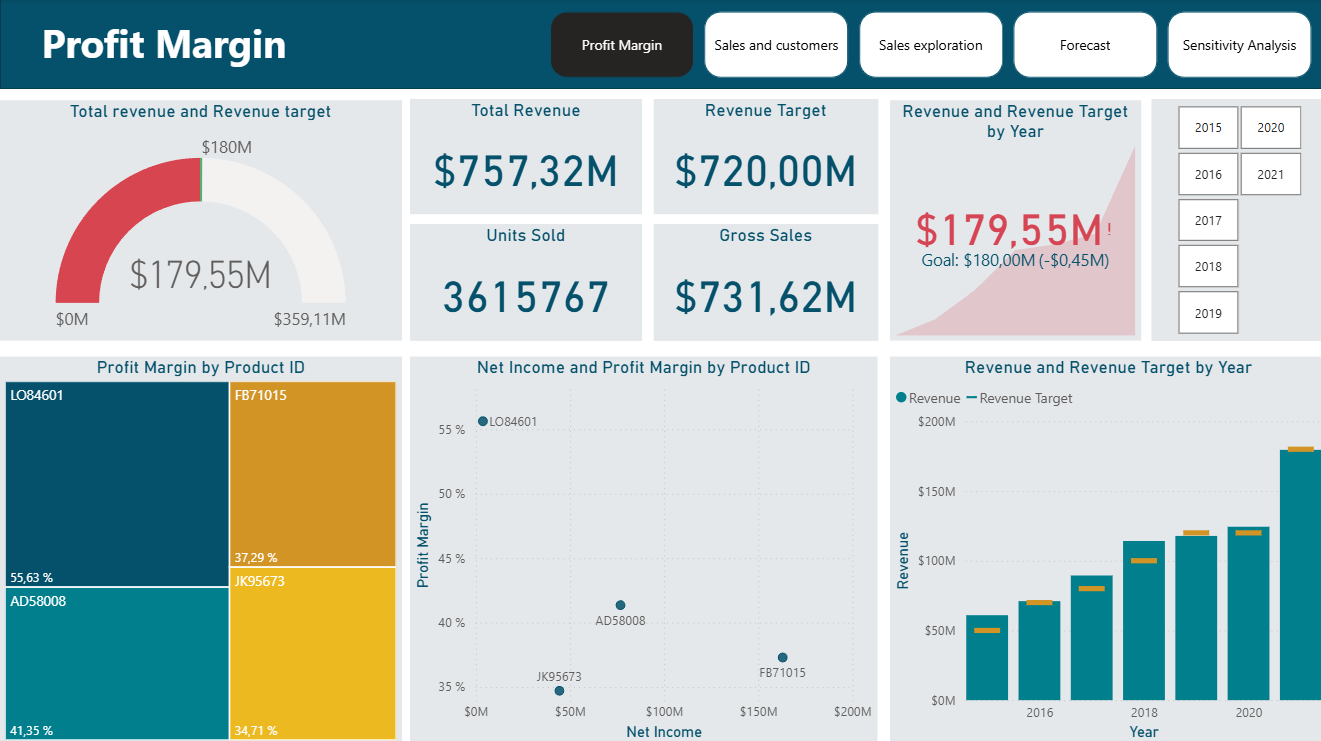

Layout of this report page (visuals, bound fields, positions):
{"tool":"powerbi","page":{"name":"Profit Margin","canvas":[1280,720],"ordinal":0},"visuals":[{"type":"treemap","title":"Profit Margin by Product ID","fields":{"Group":["Sales_Fact.Product_ID"],"Values":["Measures_calculates.Profit Margin"]},"box":[0,344.8,387.6,375.4],"z":0},{"type":"scatterChart","title":"Net Income and Profit Margin by Product ID","fields":{"X":["Measures_calculates.Net Income"],"Y":["Measures_calculates.Profit Margin"],"Category":["Sales_Fact.Product_ID"]},"box":[396.2,344.8,451.2,375.4],"z":1000},{"type":"card","title":"Units Sold","fields":{"Values":["Sum(Sales_Fact.Units Sold)"]},"box":[396.2,217.7,223.8,112.5],"z":2000},{"type":"card","title":"Gross Sales","fields":{"Values":["Sum(Sales_Fact.Gross Sales)"]},"box":[631,217.7,216.4,112.5],"z":3000},{"type":"card","title":"Total Revenue","fields":{"Values":["Sum(Sales_Fact.Revenue)"]},"box":[396.2,96.6,223.8,111.3],"z":4000},{"type":"card","title":"Revenue Target","fields":{"Values":["Sum(Revenue Targets.Revenue Target)"]},"box":[631,96.6,216.4,111.3],"z":5000},{"type":"slicer","fields":{"Values":["Dates.Date.Variation.Date Hierarchy.Year"]},"box":[1111.6,96.6,168.8,233.6],"z":6000},{"type":"lineStackedColumnComboChart","fields":{"Y":["Sum(Sales_Fact.Revenue)"],"Y2":["Sum(Revenue Targets.Revenue Target)"],"Category":["Dates.Date.Variation.Date Hierarchy.Year","Dates.Date.Variation.Date Hierarchy.Quarter","Dates.Date.Variation.Date Hierarchy.Month","Dates.Date.Variation.Date Hierarchy.Day"]},"box":[858.4,344.8,421.9,375.4],"z":7000},{"type":"kpi","fields":{"Indicator":["Sum(Sales_Fact.Revenue)"],"Goal":["Sum(Revenue Targets.Revenue Target)"],"TrendLine":["Dates.Date.Variation.Date Hierarchy.Year"]},"box":[858.4,97.8,242.1,232.3],"z":8000},{"type":"gauge","title":"Total revenue and Revenue target","fields":{"Y":["Sales_Fact.Total_revenue"],"TargetValue":["Revenue Targets.Revenue_target_measure"]},"box":[0,97.8,387.6,232.3],"z":9000},{"type":"shape","box":[0,0,1280.3,86.8],"z":10000},{"type":"pageNavigator","box":[530.7,12.2,737.4,64.8],"z":11000},{"type":"textbox","box":[35.5,12.2,299.6,64.8],"z":12000}]}

Visuals, with their boxes in screenshot pixels (x1, y1, x2, y2), scaled from the page's 1280x720 canvas onto the 1321x741 screenshot:
"Profit Margin by Product ID" treemap: bbox=(0, 355, 400, 740)
"Net Income and Profit Margin by Product ID" scatterChart: bbox=(409, 355, 875, 740)
"Units Sold" card: bbox=(409, 224, 640, 340)
"Gross Sales" card: bbox=(651, 224, 875, 340)
"Total Revenue" card: bbox=(409, 99, 640, 214)
"Revenue Target" card: bbox=(651, 99, 875, 214)
slicer - Dates.Date.Variation.Date Hierarchy.Year: bbox=(1147, 99, 1320, 340)
lineStackedColumnComboChart - Sum(Sales_Fact.Revenue) x Sum(Revenue Targets.Revenue Target): bbox=(886, 355, 1320, 740)
kpi - Sum(Sales_Fact.Revenue) x Sum(Revenue Targets.Revenue Target): bbox=(886, 101, 1136, 340)
"Total revenue and Revenue target" gauge: bbox=(0, 101, 400, 340)
shape: bbox=(0, 0, 1320, 89)
pageNavigator: bbox=(548, 13, 1309, 79)
textbox: bbox=(37, 13, 346, 79)
